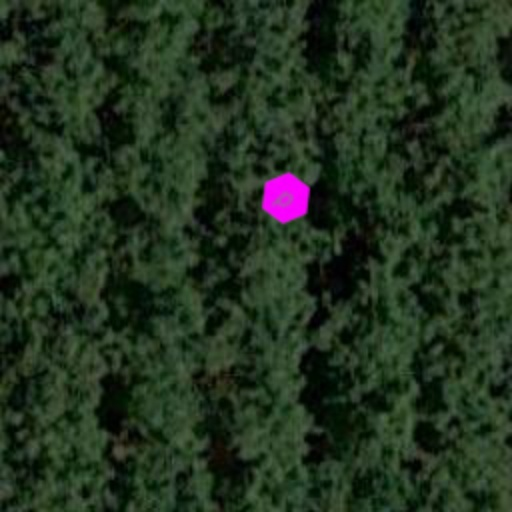hexagon: (248, 160, 324, 236)
